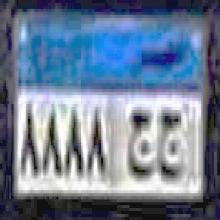8: (18, 95, 41, 182), (86, 104, 108, 184), (42, 101, 63, 178), (64, 106, 85, 182)
jeem: (125, 104, 155, 184), (156, 102, 184, 185)
